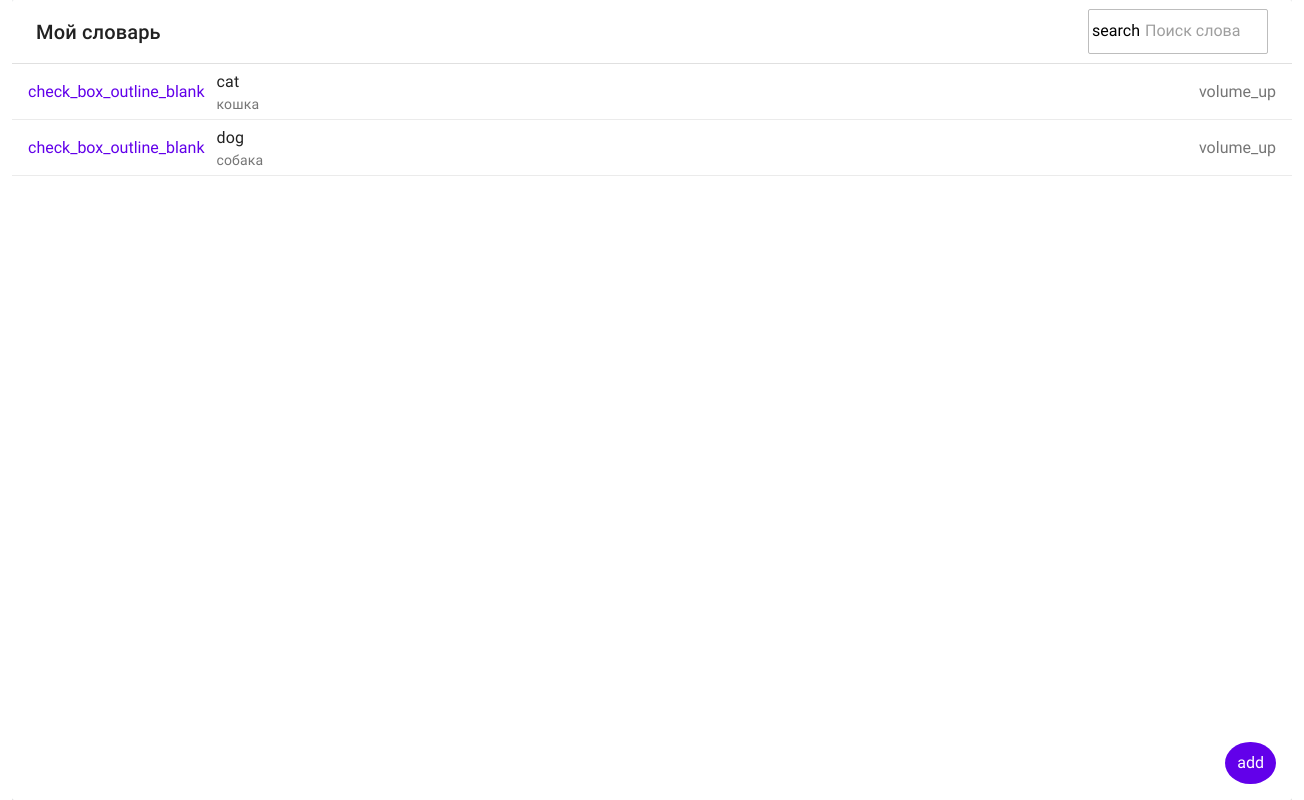
find word pair
Expected: the text "cat" is shown, [216,72,239,91]
In the field with placeholder "Поиск слова": [1178, 32] box [1088,9,1268,54], type "cat"
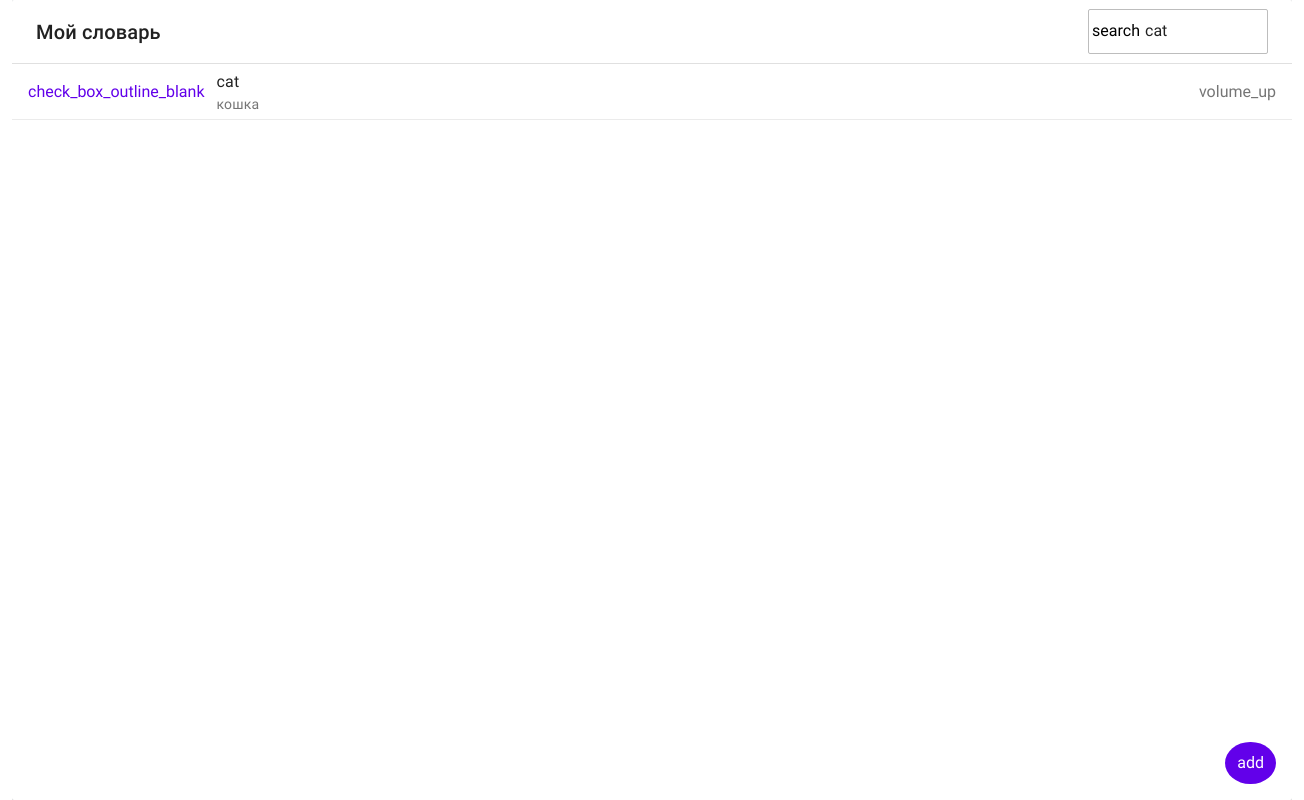
Expected: the text "cat" is shown, [216,72,239,91]
Expected: the button "dog" is gone
